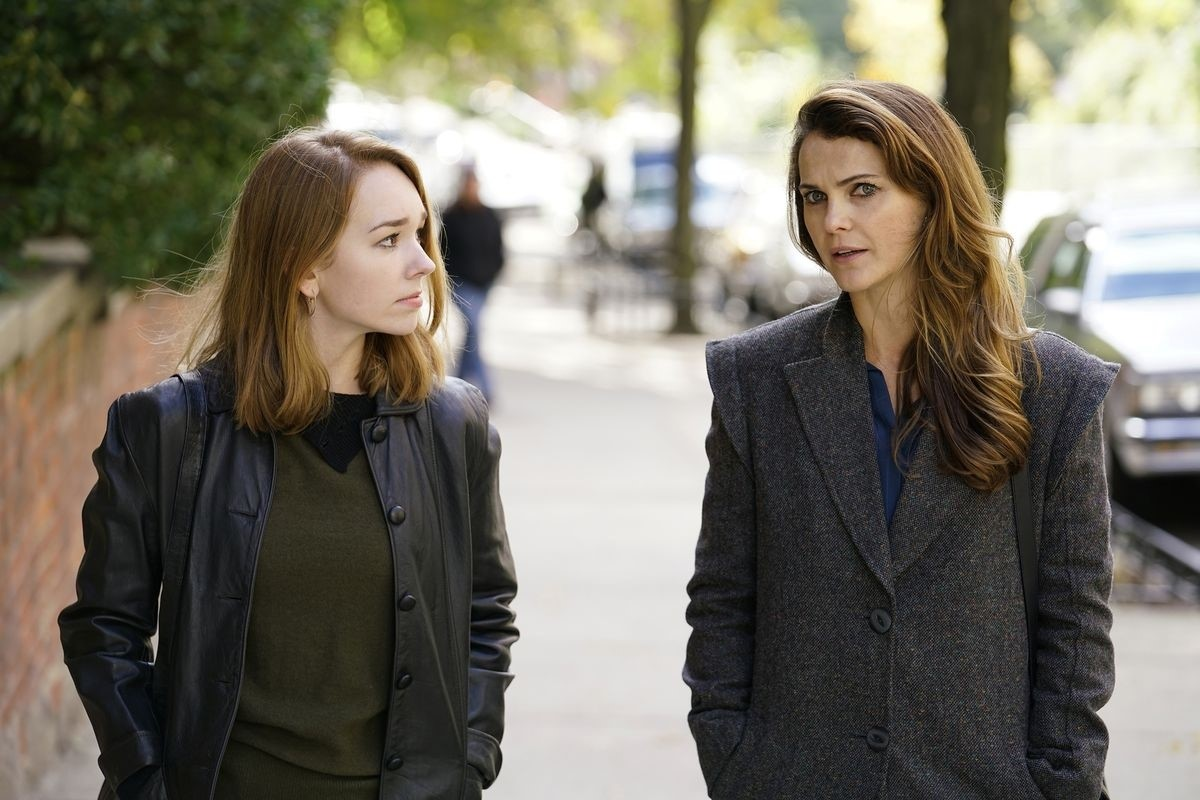face_no_mask: (230, 129, 438, 335), (785, 82, 978, 294)
